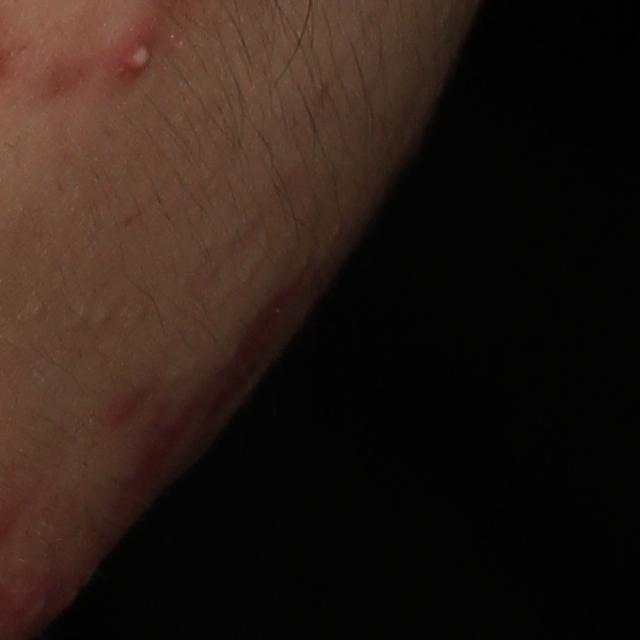pustule: (106, 21, 163, 86)
